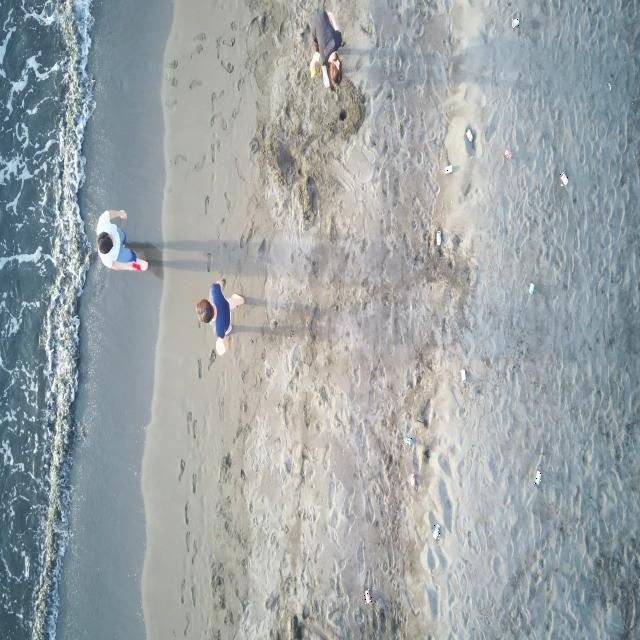Garbage: (432, 524, 440, 540), (364, 588, 372, 603), (408, 472, 415, 487), (464, 128, 472, 141), (560, 172, 567, 186), (527, 281, 535, 293), (533, 471, 540, 484), (460, 367, 466, 382), (504, 148, 512, 159), (435, 229, 440, 246), (131, 261, 140, 270), (404, 435, 412, 444), (310, 64, 316, 76), (444, 163, 452, 172), (512, 18, 519, 27), (608, 81, 611, 91)
